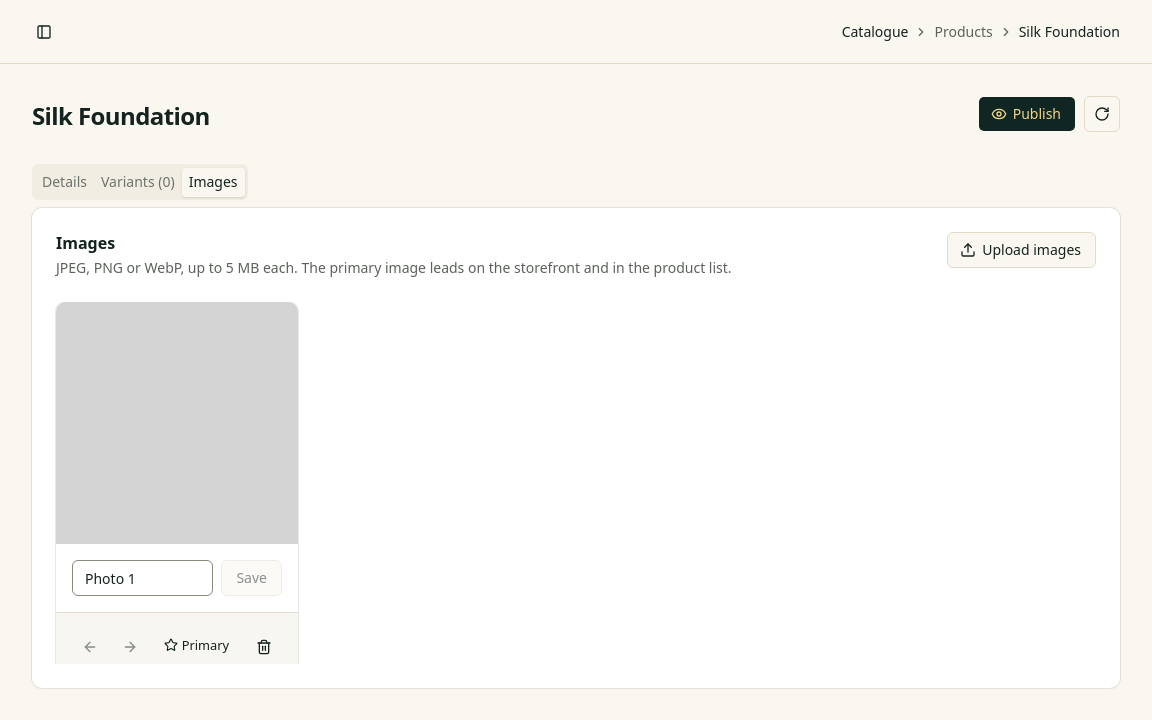
Test: product images › shows new alt text at once and puts it back when the API refuses
Replace the text in the field named "Alt text of image 1" with "Front of the bottle" at (143, 578), box top-left (72, 560), bottom-right (213, 596)
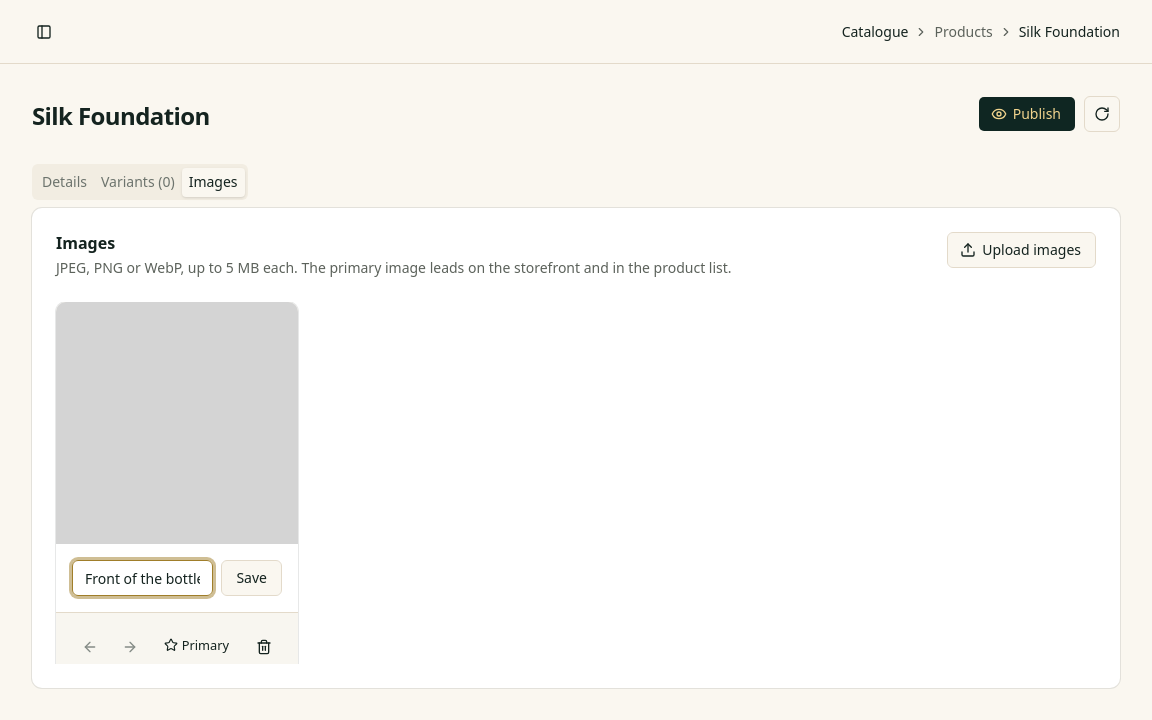
Click the button "Save" at (252, 578), box top-left (221, 560), bottom-right (282, 596)
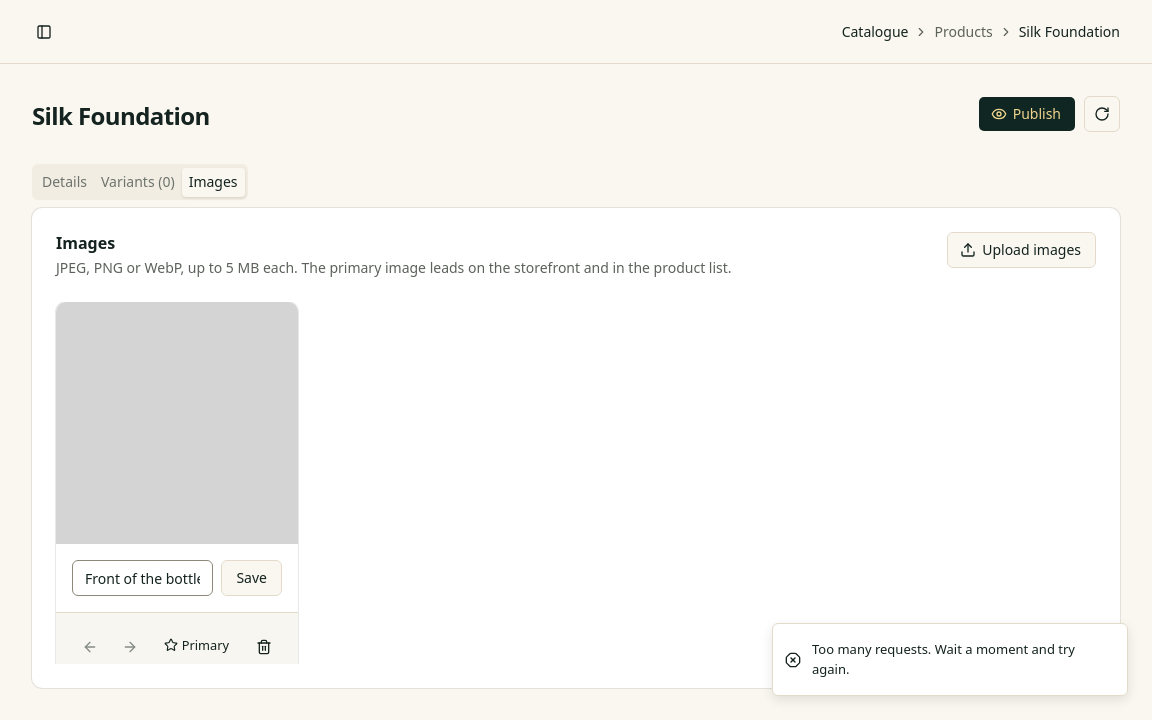
Expected: the text "Too many requests. Wait a moment and try again." is shown, top-left (812, 640), bottom-right (1111, 679)
